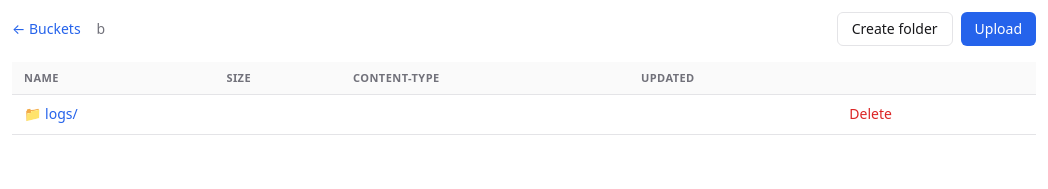
BlobList › navigates into a folder when the row is clicked
This screenshot has width=1048, height=189.
Click the button "📁 logs/" at [51, 114], box [24,104,78,124]
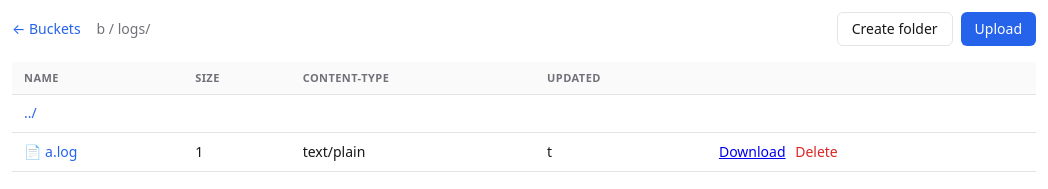
Expected: the button "📄 a.log" is shown, [24,142,77,162]
